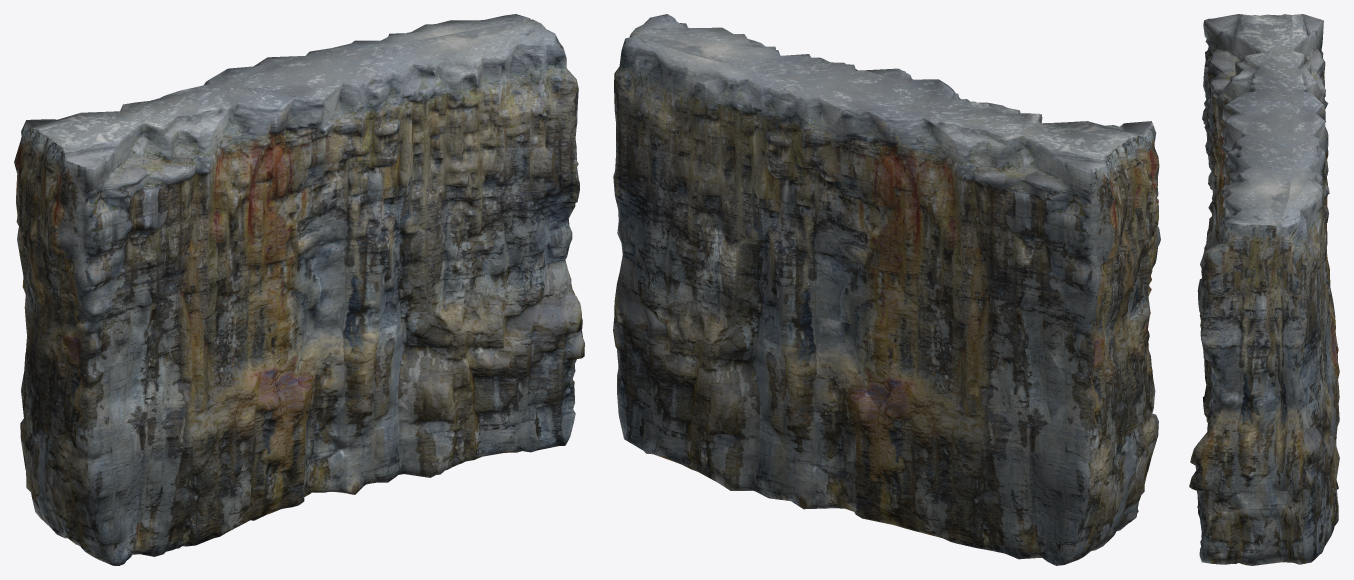
The model's file is SM_wall1_straight.fbx.
The picture shows the model from 3 angles, left to right: view 1: azimuth 30°, elevation 25°; view 2: azimuth 150°, elevation 25°; view 3: azimuth 270°, elevation 25°; orthographic projection. The views are drawn at different scales.
Visible parts, largest first — view 1: SM_wall1_straight; view 2: SM_wall1_straight; view 3: SM_wall1_straight.
Part boxes in pixels (bbox=[...]): SM_wall1_straight: bbox=[14, 14, 584, 565]; SM_wall1_straight: bbox=[613, 14, 1160, 565]; SM_wall1_straight: bbox=[1189, 14, 1339, 565].
Bounding box in the file's own units: 5867 × 4468 × 1686.
